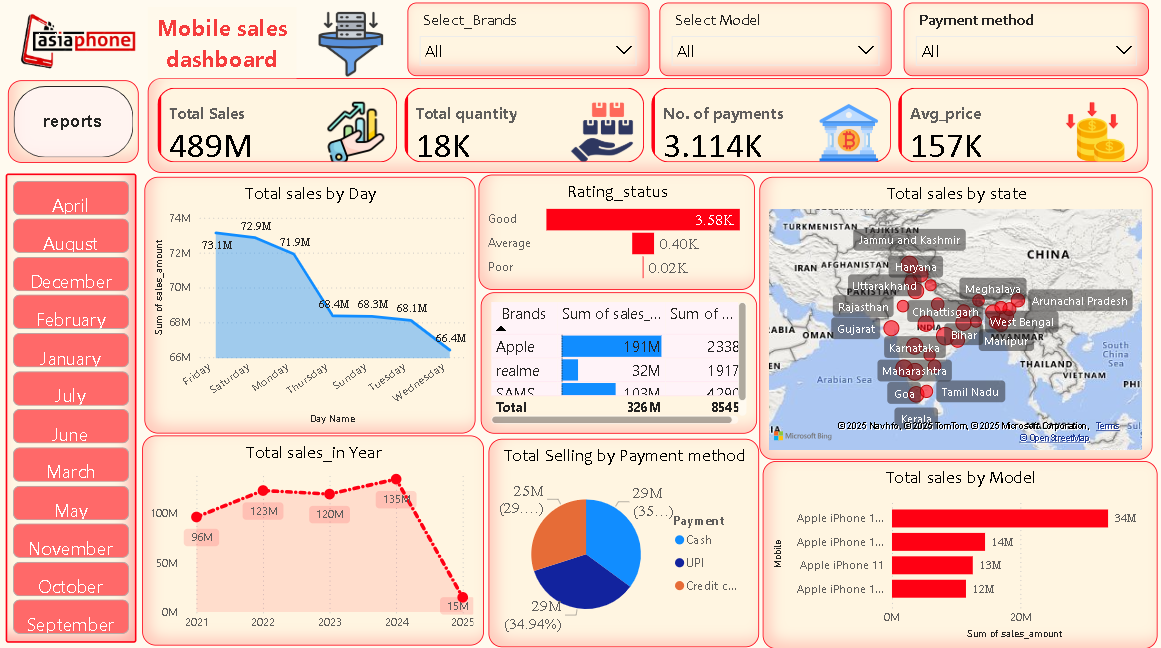

This screenshot's page, from the dashboard's own definition file:
{"tool":"powerbi","page":{"name":"Dashboard","canvas":[1280,720],"ordinal":0},"visuals":[{"type":"image","box":[0,0,164.4,97.8],"z":0},{"type":"advancedSlicerVisual","fields":{"Values":["mobile saled data new (2).Month Name"]},"box":[7.6,193.9,144.5,517],"z":1000},{"type":"cardVisual","fields":{"Data":["Sum(mobile saled data new (2).sales_amount)","mobile saled data new (2).total_quantity","CountNonNull(mobile saled data new (2).Payment)","mobile saled data new (2).avg_price"]},"box":[164.4,89.5,1103,104.1],"z":2000},{"type":"slicer","fields":{"Values":["mobile saled data new (2).Brands"]},"box":[449.5,6.2,266.4,81.2],"z":3000},{"type":"slicer","fields":{"Values":["mobile saled data new (2).Mobile"]},"box":[728.4,6.2,256,81.2],"z":4000},{"type":"slicer","fields":{"Values":["mobile saled data new (2).Payment"]},"box":[996.8,6.2,270.5,81.2],"z":5000},{"type":"image","box":[345.3,11.3,84.9,81.1],"z":6000},{"type":"textbox","box":[164.4,10.4,164.4,81.2],"z":7000},{"type":"lineChart","title":"Total sales_in Year","fields":{"Category":["mobile saled data new (2).Year"],"Y":["Sum(mobile saled data new (2).sales_amount)"]},"box":[157.8,482.8,376.4,231.9],"z":8000},{"type":"funnel","title":"Rating_status","fields":{"Y":["CountNonNull(mobile saled data new (2).Rating)"],"Category":["mobile saled data new (2).Rating_status"]},"box":[528.5,195.8,304.1,127.4],"z":9000},{"type":"pieChart","title":"Total Selling by Payment method","fields":{"Category":["mobile saled data new (2).Payment"],"Y":["Sum(mobile saled data new (2).Selling Price)"]},"box":[539.9,486.6,298.4,230],"z":10000},{"type":"clusteredBarChart","title":"Total sales by Model","fields":{"Y":["Sum(mobile saled data new (2).sales_amount)"],"Category":["mobile saled data new (2).Mobile"]},"box":[842.1,511.3,435.3,207.2],"z":11000},{"type":"areaChart","title":"Total sales by Day","fields":{"Y":["Sum(mobile saled data new (2).sales_amount)"],"Category":["mobile saled data new (2).Day Name"]},"box":[159.7,197.7,365,283.2],"z":12000},{"type":"tableEx","fields":{"Values":["mobile saled data new (2).Brands","Sum(mobile saled data new (2).sales_amount)","Sum(mobile saled data new (2).unit_sold)"]},"box":[530.4,325.1,304.1,155.9],"z":13000},{"type":"pageNavigator","box":[9.5,91.2,144.5,91.2],"z":14000},{"type":"map","title":"Total sales by state","fields":{"Size":["Sum(mobile saled data new (2).sales_amount)"],"Category":["mobile saled data new (2).state"]},"box":[838.3,197.7,433.4,311.7],"z":15000}]}

Visuals, with their boxes in screenshot pixels (x1, y1, x2, y2), scaled from the page's 1280x720 canvas onto the 1161x648 screenshot:
image: region(0, 0, 149, 88)
advancedSlicerVisual - mobile saled data new (2).Month Name: region(7, 175, 138, 640)
cardVisual - Sum(mobile saled data new (2).sales_amount) x mobile saled data new (2).total_quantity: region(149, 81, 1150, 174)
slicer - mobile saled data new (2).Brands: region(408, 6, 649, 79)
slicer - mobile saled data new (2).Mobile: region(661, 6, 893, 79)
slicer - mobile saled data new (2).Payment: region(904, 6, 1149, 79)
image: region(313, 10, 390, 83)
textbox: region(149, 9, 298, 82)
"Total sales_in Year" lineChart: region(143, 435, 485, 643)
"Rating_status" funnel: region(479, 176, 755, 291)
"Total Selling by Payment method" pieChart: region(490, 438, 760, 645)
"Total sales by Model" clusteredBarChart: region(764, 460, 1159, 647)
"Total sales by Day" areaChart: region(145, 178, 476, 433)
tableEx - mobile saled data new (2).Brands x Sum(mobile saled data new (2).sales_amount): region(481, 293, 757, 433)
pageNavigator: region(9, 82, 140, 164)
"Total sales by state" map: region(760, 178, 1153, 458)
